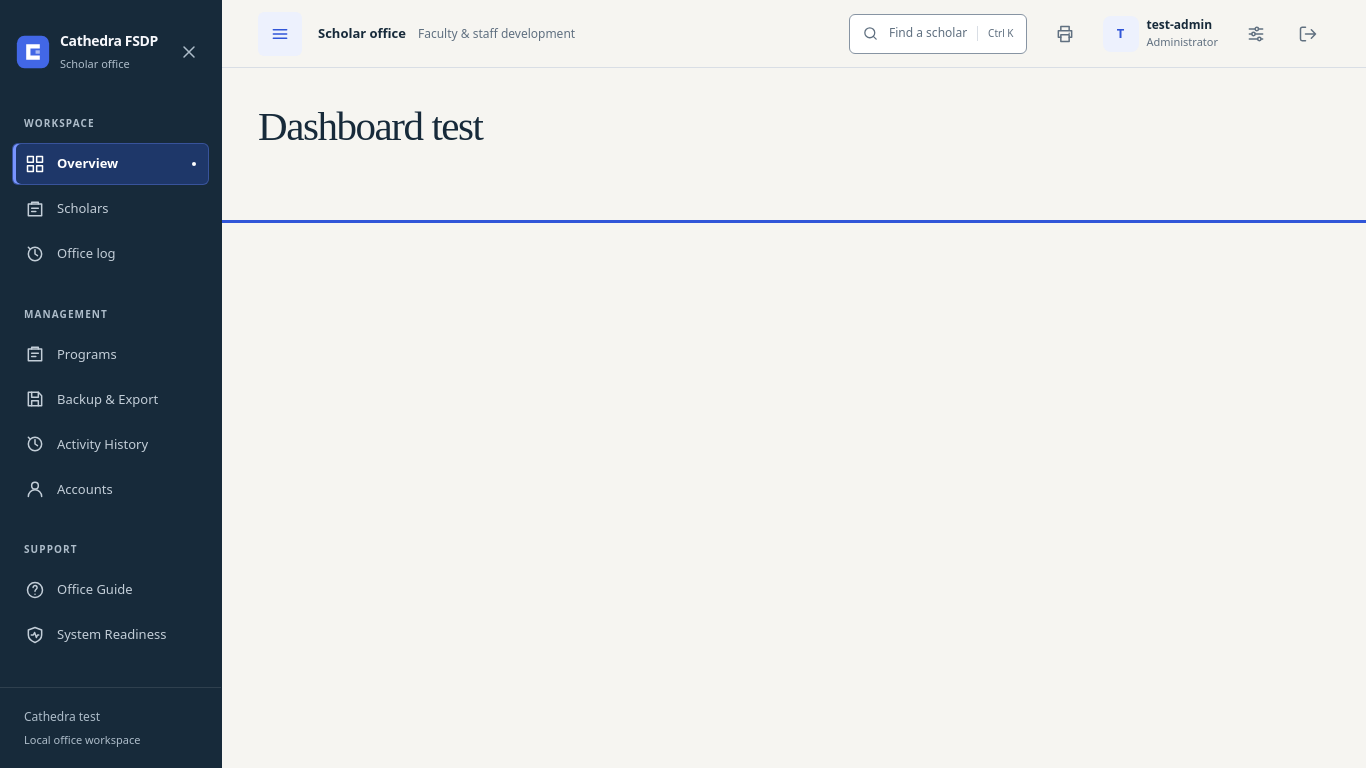
backdrop closes the drawer and navigation opens the selected page
Click the button named "Open menu" at (280, 34), box x1=258 y1=12 x2=302 y2=56
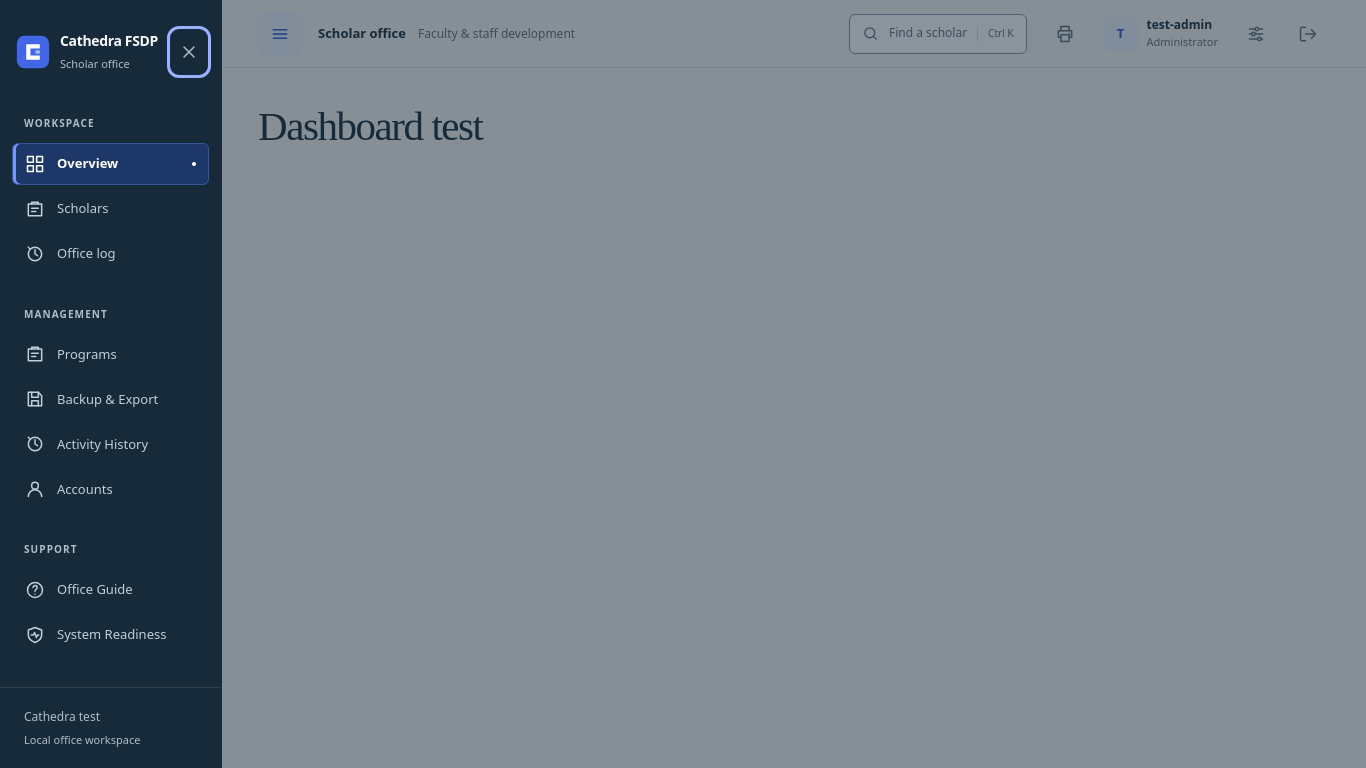
Click the element with class "sidebar-scrim" at (683, 384), box x1=0 y1=0 x2=1365 y2=767
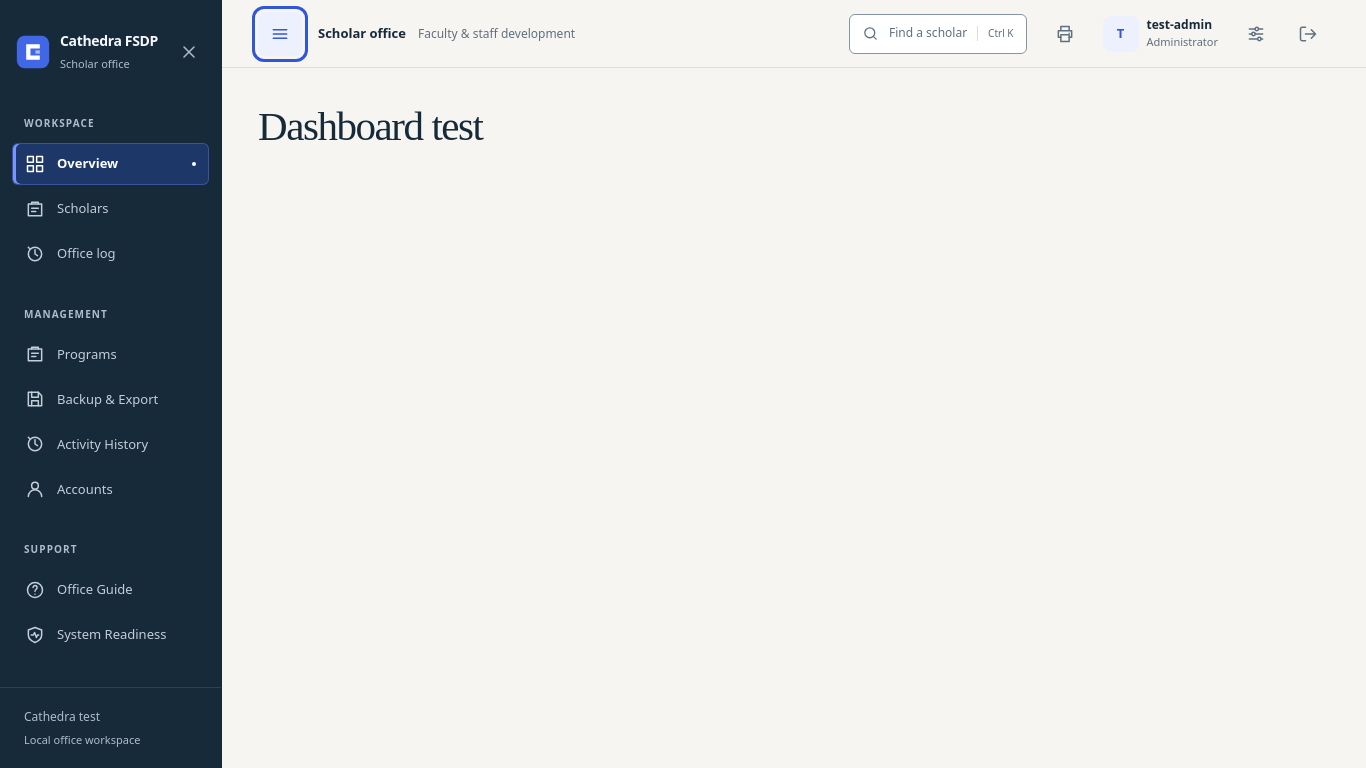
Click the button named "Open menu" at (280, 34), box x1=258 y1=12 x2=302 y2=56
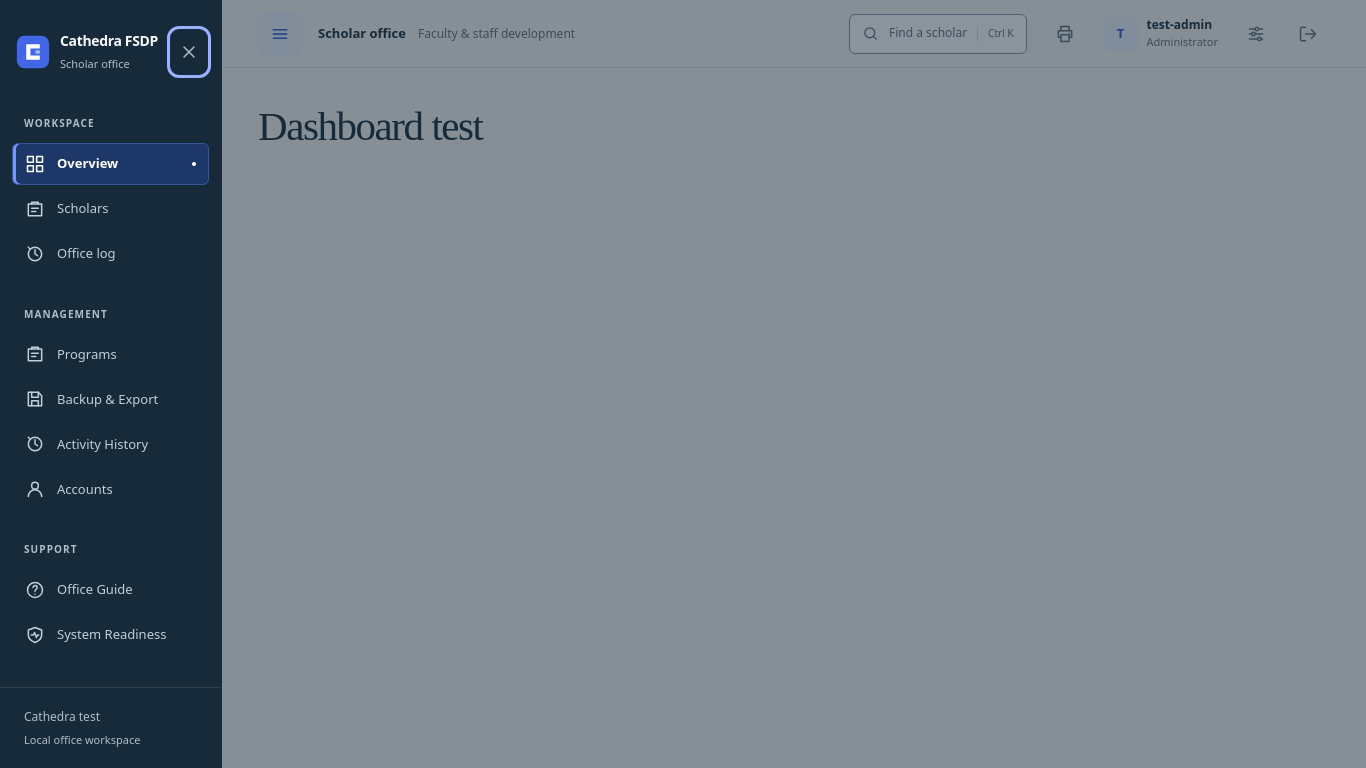
Click the link "Scholars" at (67, 208), box x1=25 y1=198 x2=108 y2=218
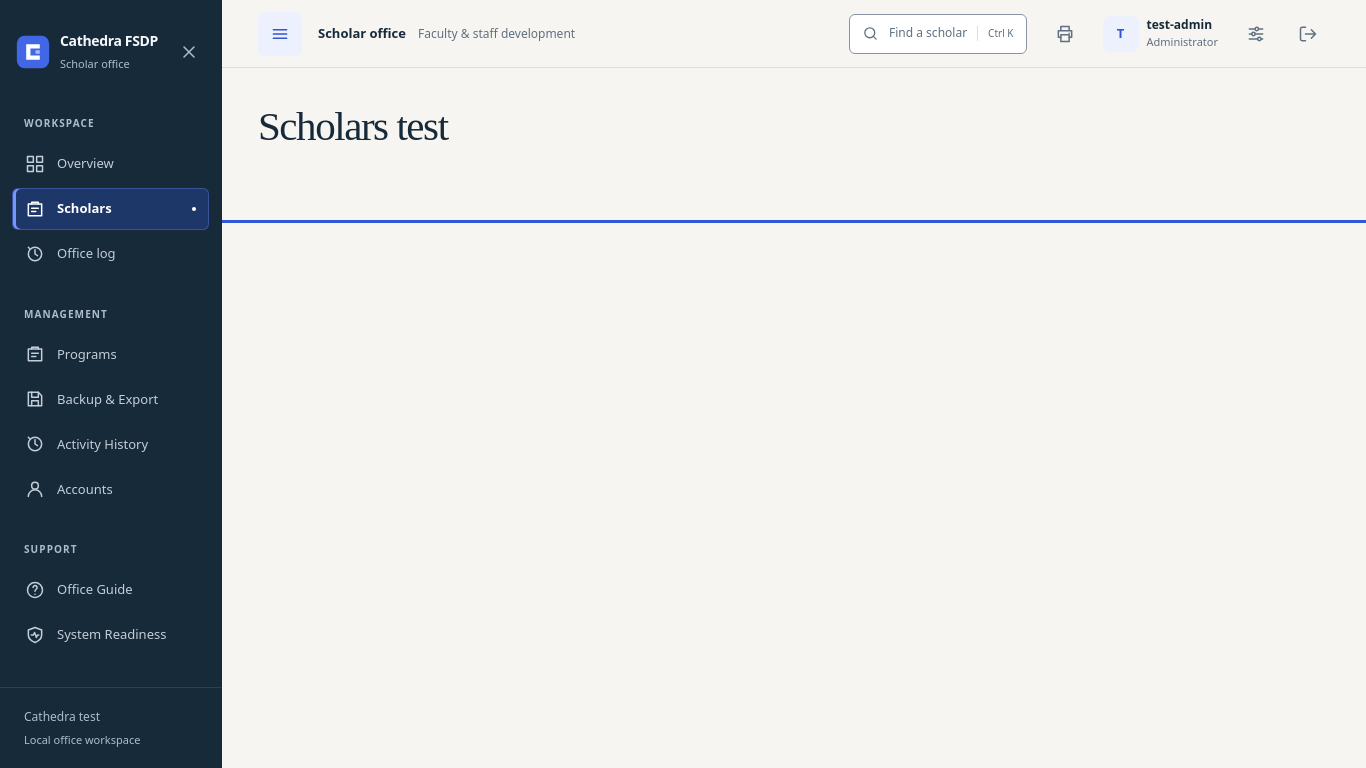
Check: the heading "Scholars test" is shown, box x1=258 y1=103 x2=448 y2=149
